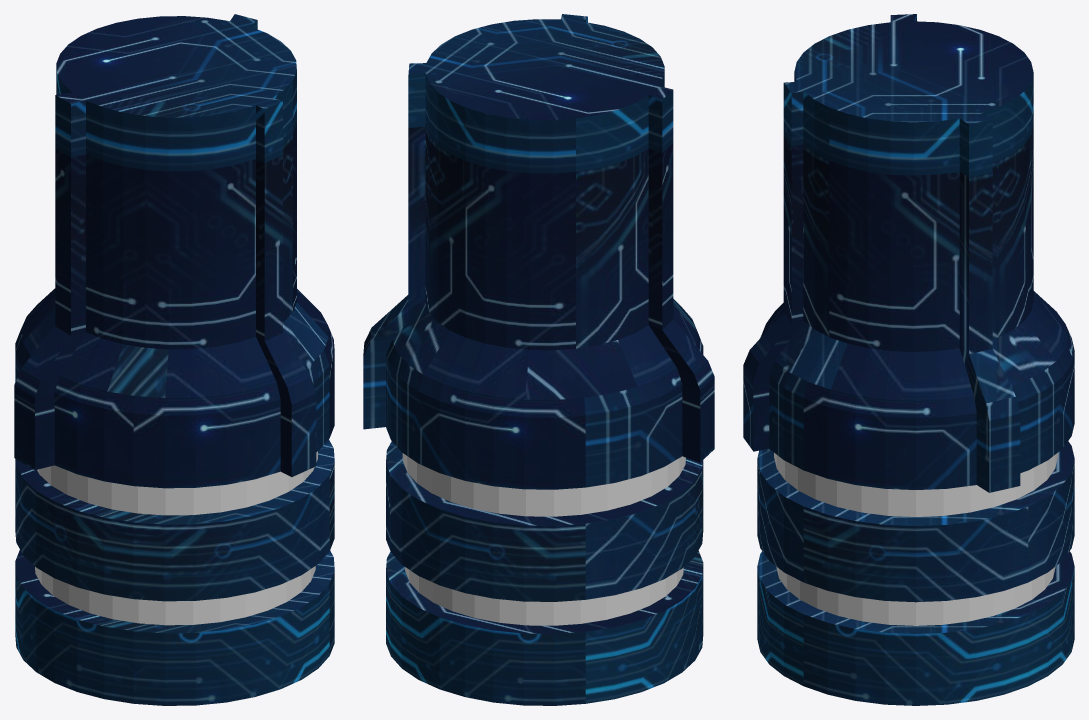
File: Block02.fbx
3 renders of one model, left to right at view 1: azimuth 30°, elevation 25°; view 2: azimuth 150°, elevation 25°; view 3: azimuth 270°, elevation 25°, orthographic.
Parts seen in each view (by area): view 1: Cylinder; view 2: Cylinder; view 3: Cylinder.
Part boxes in pixels (x1,y1,x2,y2): Cylinder: (14,14,334,705); Cylinder: (363,14,714,705); Cylinder: (743,14,1074,705).
Size of the model in its own units: 219 by 209 by 394.
